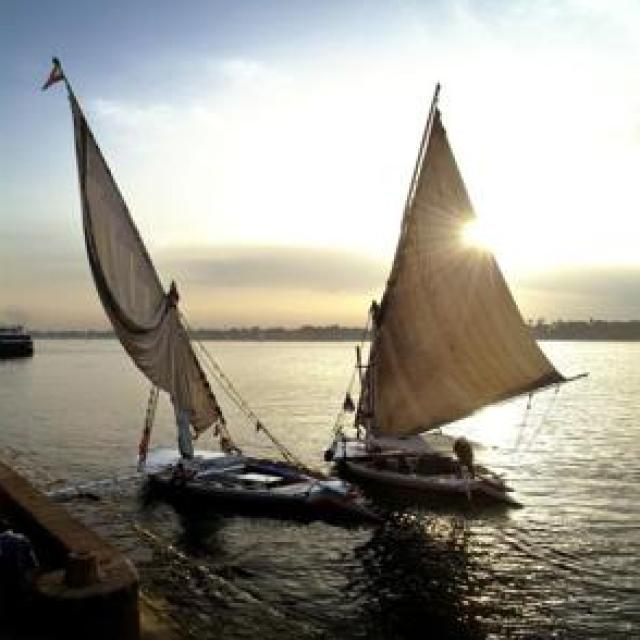sailboat: (46, 53, 358, 513), (333, 70, 545, 500)
